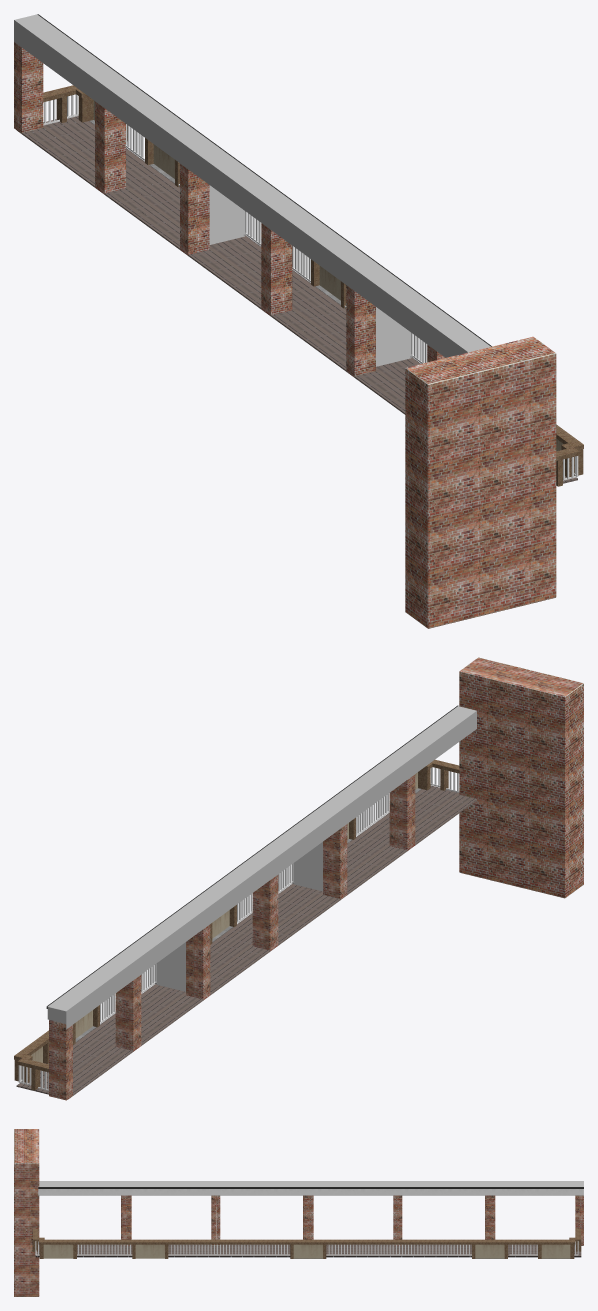
The model's file is Balcony.fbx.
The picture shows the model from 3 angles, top to bottom: view 1: azimuth 30°, elevation 25°; view 2: azimuth 150°, elevation 25°; view 3: azimuth 270°, elevation 25°; orthographic projection. The views are drawn at different scales.
Parts seen in each view (by area): view 1: BalconyWall.002, BalconyWall, BalconyFloor, BalconyFence, BalconyGlass.004, BalconyGlass.003; view 2: BalconyWall.002, BalconyWall, BalconyFloor, BalconyFence, BalconyGlass.004, BalconyGlass.003; view 3: BalconyWall, BalconyFence, BalconyFloor, BalconyWall.002.
Boxes of the visible parts, x1,y1,x2,y2 form: BalconyWall.002: [405, 336, 556, 628]; BalconyWall: [14, 14, 491, 377]; BalconyFloor: [17, 114, 577, 483]; BalconyFence: [43, 85, 583, 486]; BalconyGlass.004: [209, 185, 244, 244]; BalconyGlass.003: [376, 307, 411, 366]; BalconyWall.002: [459, 657, 583, 898]; BalconyWall: [46, 705, 476, 1100]; BalconyFloor: [16, 785, 476, 1099]; BalconyFence: [14, 759, 459, 1090]; BalconyGlass.004: [156, 942, 185, 991]; BalconyGlass.003: [293, 842, 322, 891]; BalconyWall: [38, 1181, 583, 1245]; BalconyFence: [32, 1229, 581, 1258]; BalconyFloor: [35, 1244, 581, 1258]; BalconyWall.002: [14, 1129, 39, 1296].
Bounding box in the file's own units: 5.16 × 6.75 × 26.07.
